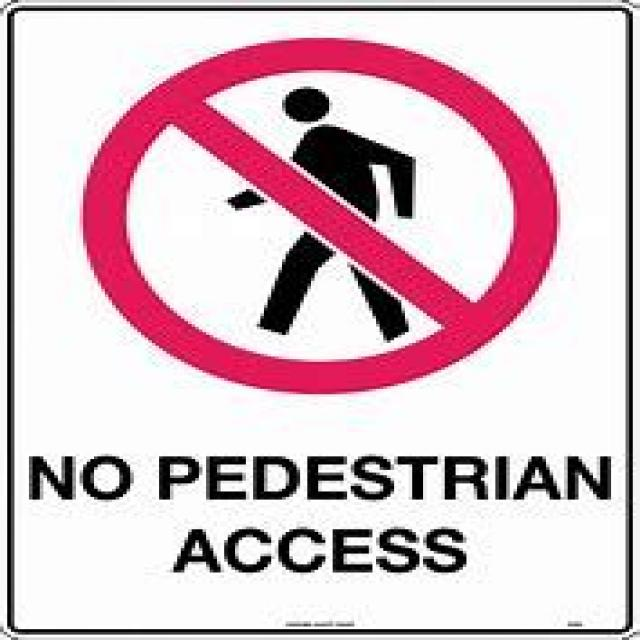PEDESTRIAN_PROHIBITED: (76, 32, 560, 389)
